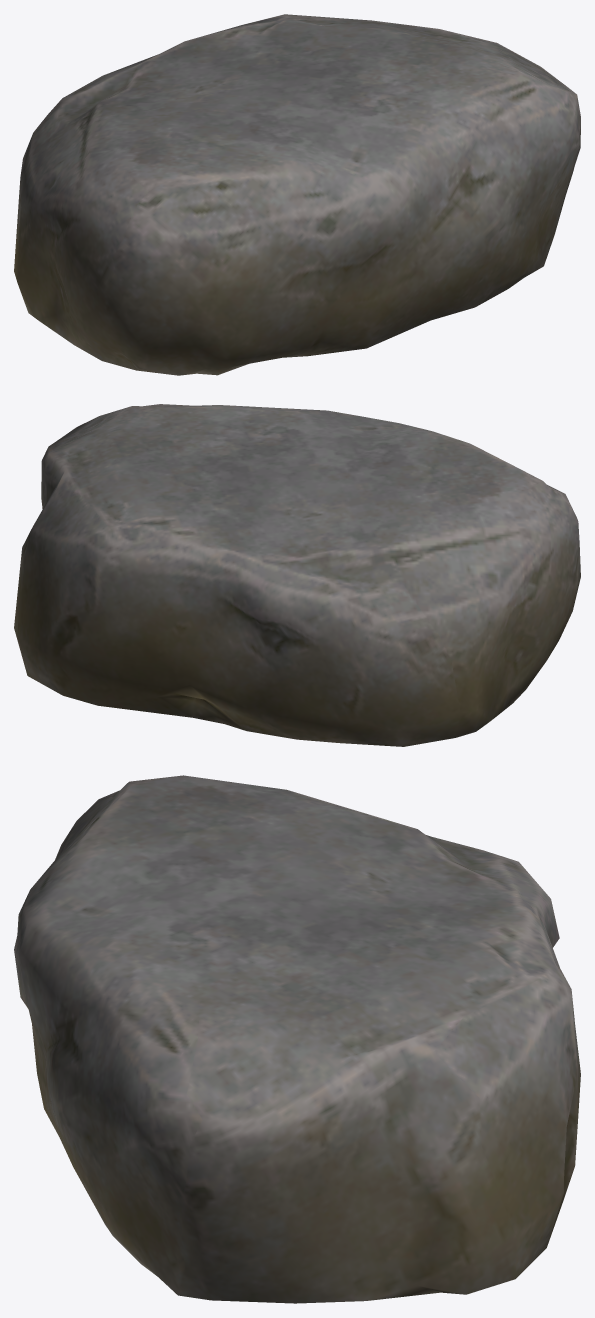
The model's file is Rock2.fbx.
The picture shows the model from 3 angles, top to bottom: view 1: azimuth 30°, elevation 25°; view 2: azimuth 150°, elevation 25°; view 3: azimuth 270°, elevation 25°; orthographic projection. The views are drawn at different scales.
Visible parts, largest first — view 1: SM_cmn_mount_GardenRock_01b; view 2: SM_cmn_mount_GardenRock_01b; view 3: SM_cmn_mount_GardenRock_01b.
Boxes of the visible parts, x1,y1,x2,y2 form: SM_cmn_mount_GardenRock_01b: (14, 14, 580, 375); SM_cmn_mount_GardenRock_01b: (14, 404, 580, 746); SM_cmn_mount_GardenRock_01b: (14, 775, 580, 1303).
Bounding box in the file's own units: 66.02 × 24.39 × 48.46.
